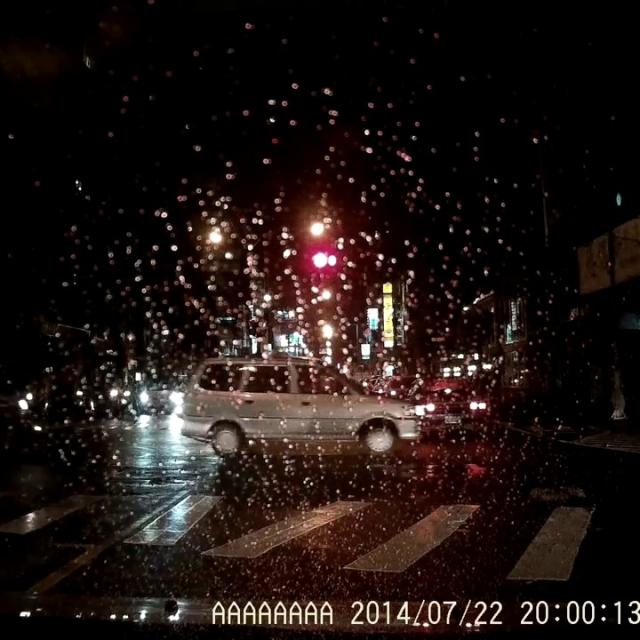Car: (179, 357, 423, 457), (400, 375, 488, 439)
